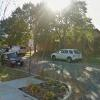Tree: (13, 0, 98, 40)
